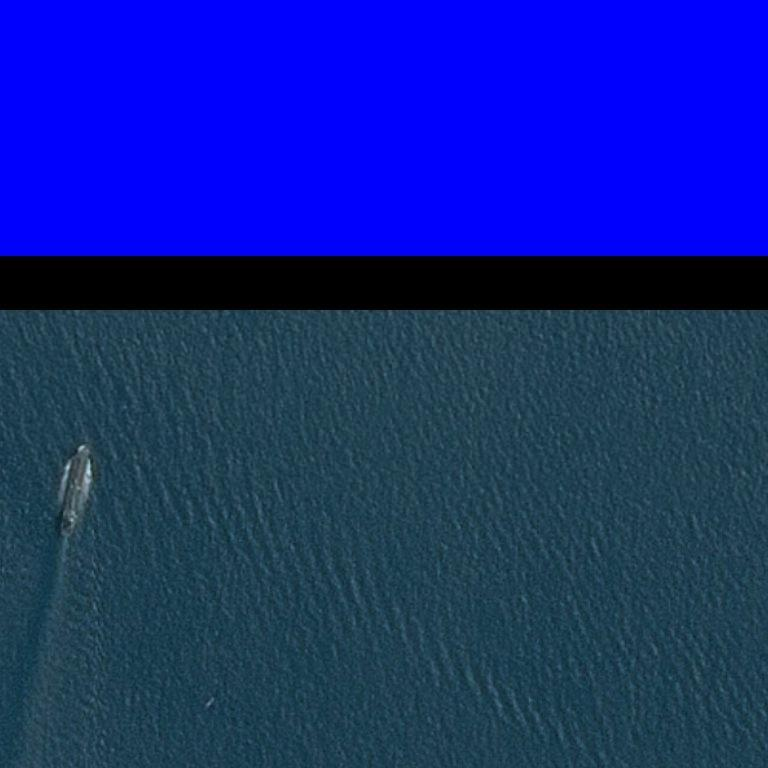ship: (55, 482, 98, 502), (80, 447, 90, 454), (59, 528, 65, 534), (70, 528, 75, 535)
